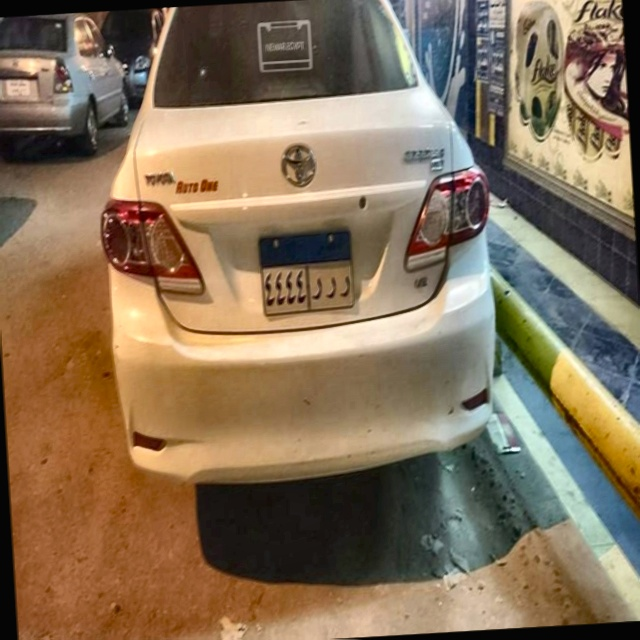License Plate: (255, 226, 358, 320)
